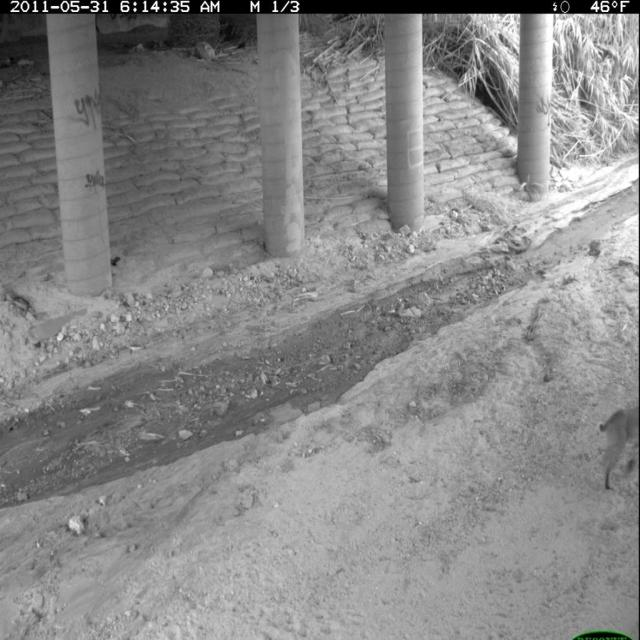bobcat: (596, 400, 640, 497)
